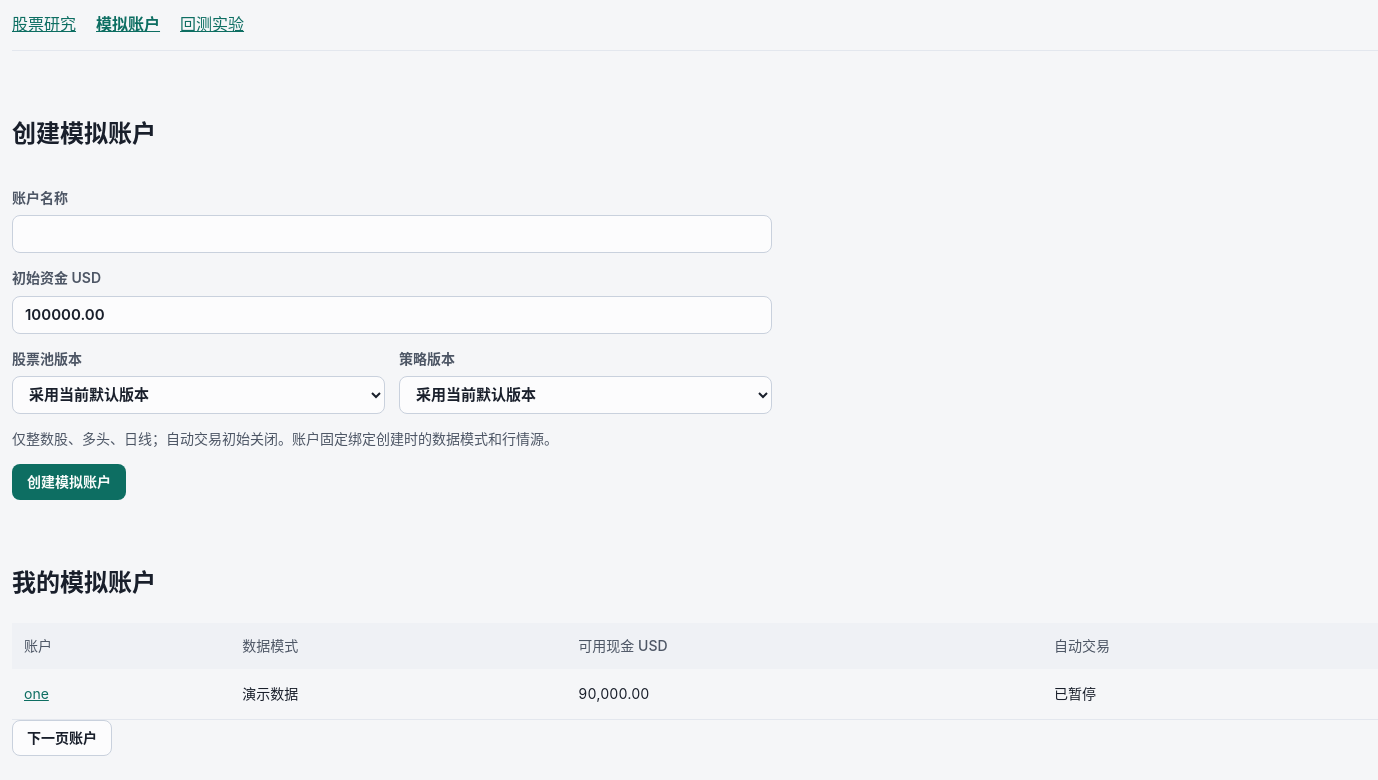
Test: account directory walks back to the previous page
The width and height of the screenshot is (1378, 780).
Check: the link "one" is shown, box [24,685,49,702]
Click the button "下一页账户" at point(62, 738), box [12,720,112,756]
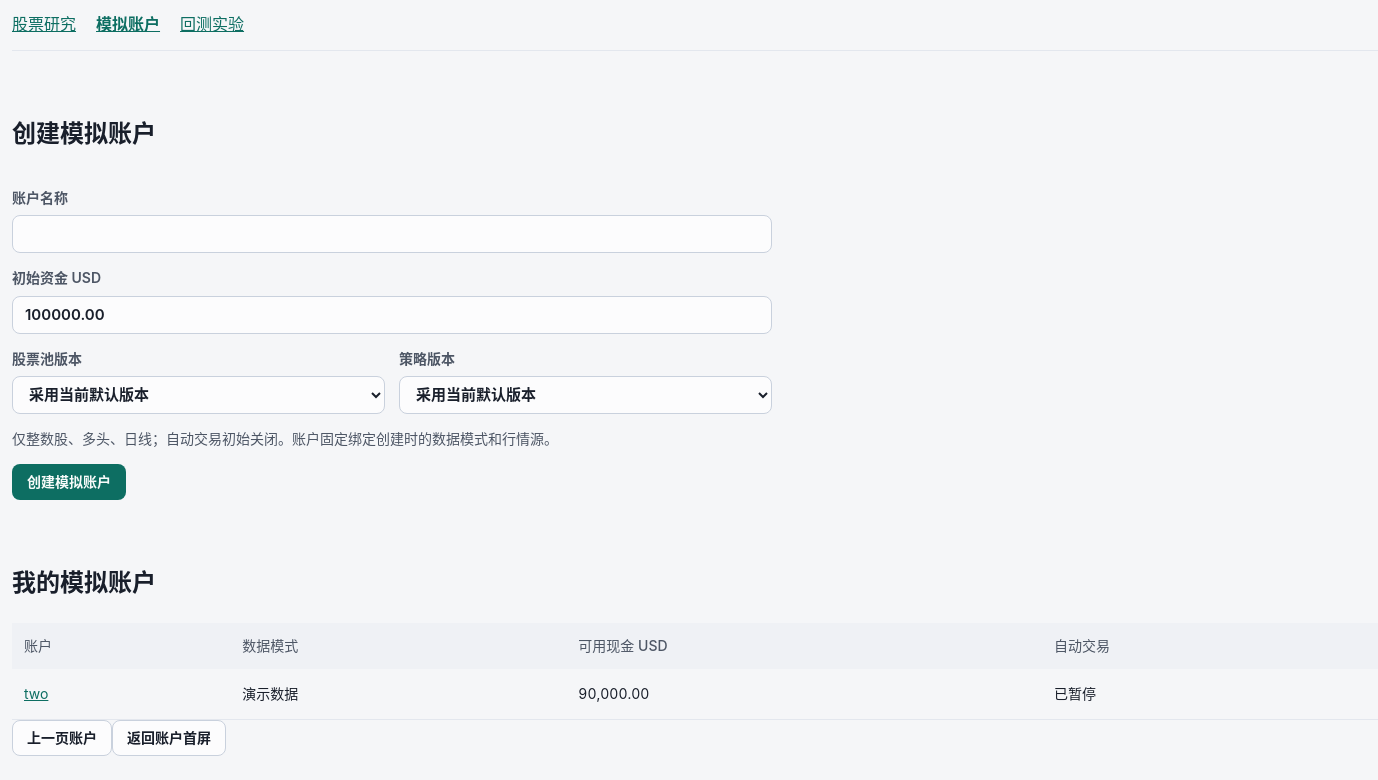
Check: the link "two" is shown, box [24,685,48,702]
Click the button "上一页账户" at point(62, 738), box [12,720,112,756]
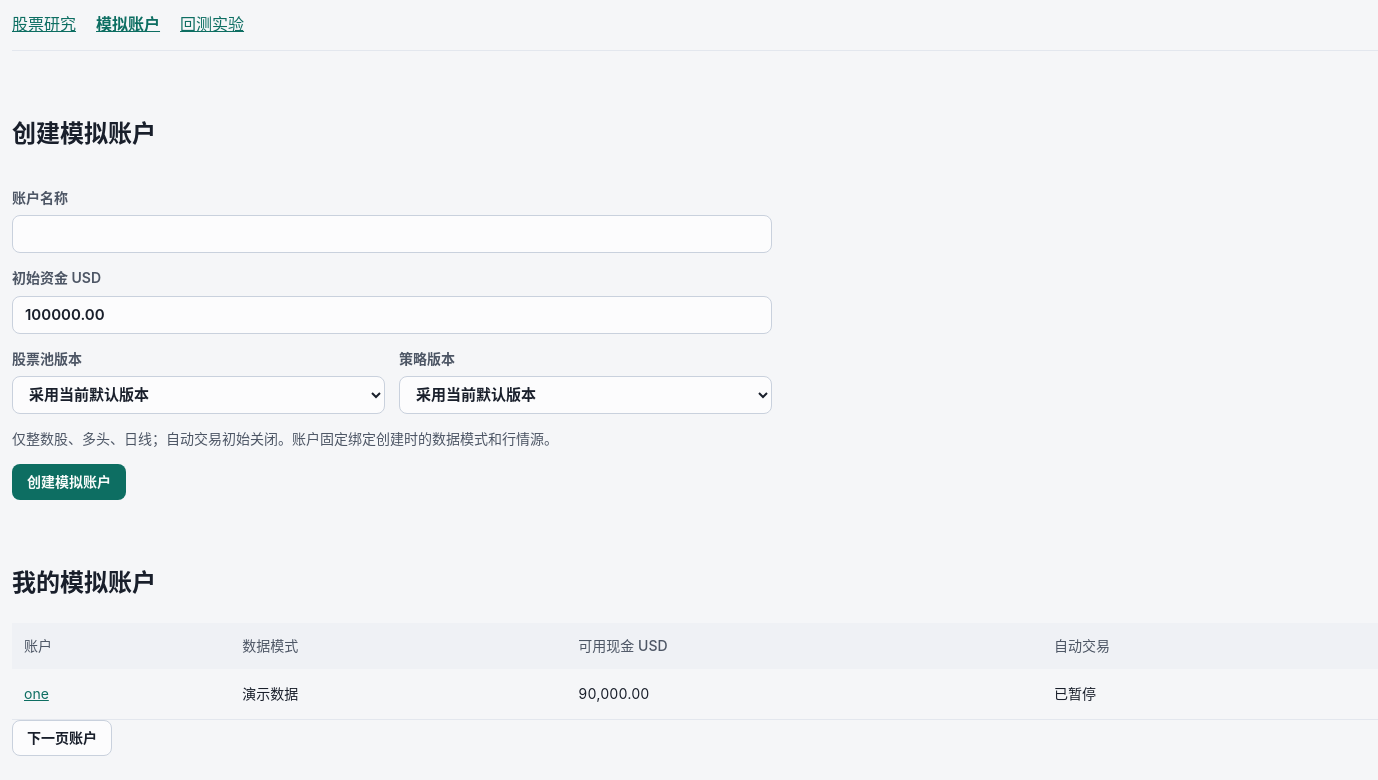
Check: the link "one" is shown, box [24,685,49,702]
